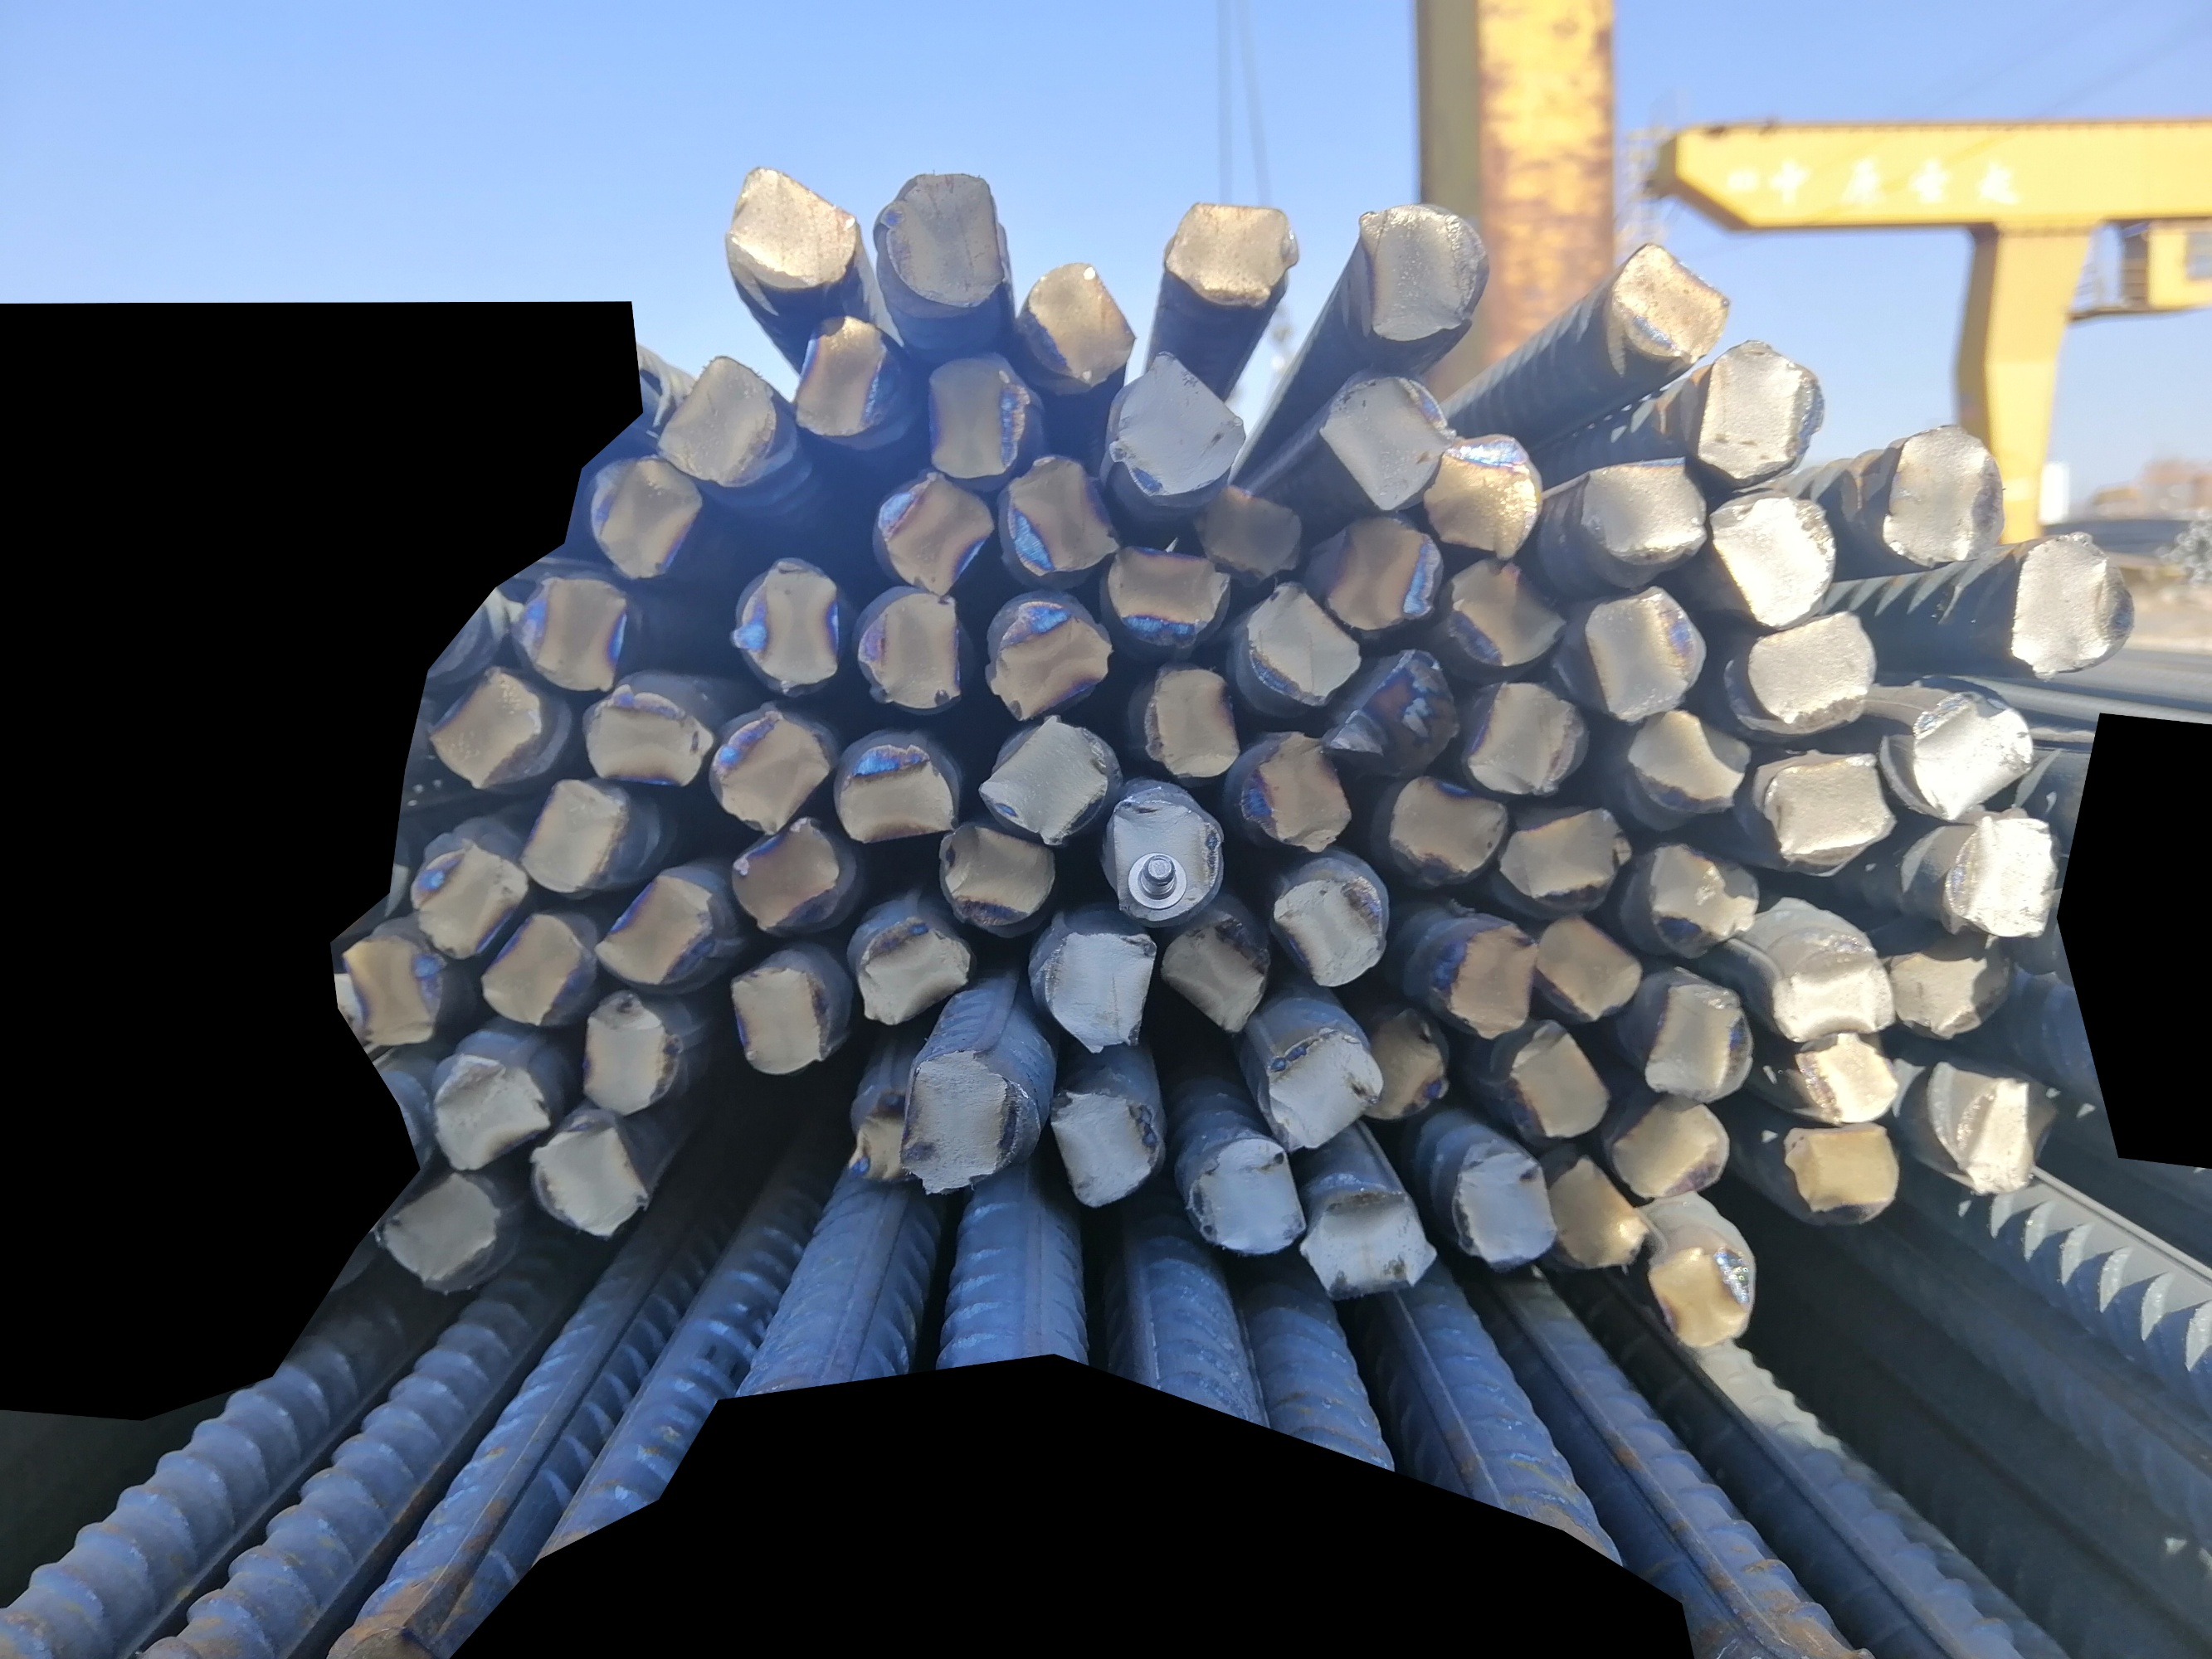rebar: (1109, 349, 1248, 505), (2001, 525, 2135, 685), (1351, 197, 1496, 343), (1687, 336, 1829, 486), (1870, 418, 2006, 573), (1757, 742, 1902, 884), (1896, 687, 2041, 828), (870, 173, 1011, 312), (725, 157, 865, 295), (1597, 237, 1740, 371), (519, 1103, 654, 1244), (1321, 368, 1455, 509), (899, 1044, 1021, 1197), (1415, 423, 1546, 566), (1733, 612, 1881, 737), (1574, 584, 1710, 720), (1571, 451, 1713, 580), (1096, 781, 1224, 925), (695, 699, 828, 836), (983, 721, 1130, 845), (507, 566, 640, 701), (1931, 812, 2064, 946), (1710, 490, 1841, 626), (1313, 507, 1447, 634), (378, 1168, 514, 1293), (1300, 1175, 1436, 1298), (1184, 1122, 1306, 1260), (659, 356, 788, 484), (1330, 648, 1461, 775), (1041, 920, 1163, 1056), (1455, 678, 1590, 800), (1264, 1019, 1382, 1157), (1492, 796, 1635, 910), (990, 594, 1117, 721), (427, 1042, 549, 1175), (1248, 570, 1363, 709), (1621, 706, 1761, 821), (723, 812, 851, 938), (1639, 835, 1762, 964), (1002, 448, 1123, 580), (727, 556, 844, 692), (1044, 1082, 1166, 1209), (580, 667, 709, 788), (1020, 258, 1138, 389), (1637, 972, 1755, 1103), (1443, 549, 1572, 667), (919, 345, 1034, 477), (1164, 197, 1299, 310), (1243, 725, 1354, 861), (1884, 938, 2022, 1047), (875, 471, 994, 598), (1536, 1150, 1652, 1279), (479, 904, 593, 1037), (591, 455, 708, 582), (1424, 917, 1541, 1044), (1947, 1072, 2062, 1201), (1774, 1124, 1909, 1234), (587, 864, 711, 983), (1271, 866, 1389, 990), (1386, 767, 1510, 885), (1530, 908, 1644, 1037), (572, 993, 683, 1124), (1769, 939, 1898, 1049), (1454, 1145, 1562, 1276), (431, 660, 547, 781), (852, 911, 976, 1025), (784, 312, 889, 444), (1154, 910, 1267, 1030), (854, 587, 964, 711), (343, 925, 446, 1056), (413, 833, 526, 951), (1102, 542, 1231, 643), (1504, 1018, 1611, 1140), (1609, 1093, 1731, 1199), (1647, 1243, 1762, 1354), (934, 821, 1055, 927), (838, 739, 959, 843), (518, 772, 626, 885), (1142, 662, 1245, 781), (730, 958, 826, 1080), (1785, 1033, 1907, 1126), (1361, 1000, 1450, 1126), (1201, 477, 1302, 579), (845, 1086, 913, 1185)
